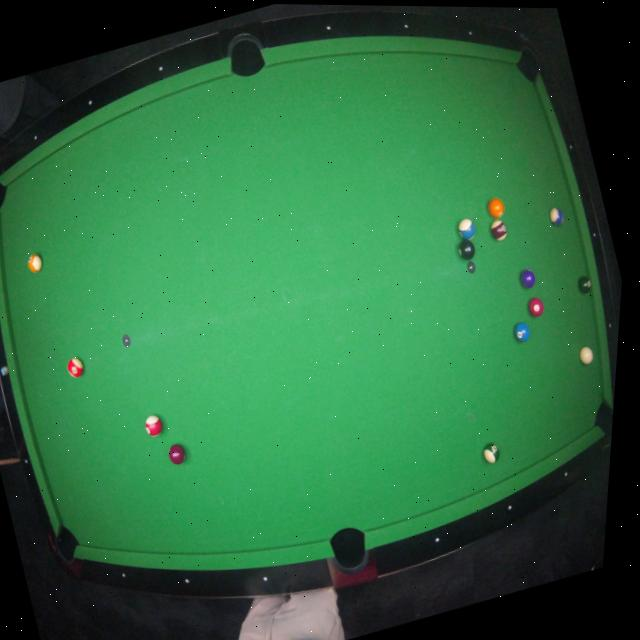cue ball: (574, 343, 597, 370)
other: (60, 353, 91, 385), (138, 409, 169, 441), (163, 437, 193, 470), (477, 437, 507, 468), (20, 249, 47, 276), (454, 236, 480, 264), (484, 195, 508, 221), (455, 216, 479, 242), (487, 218, 510, 243), (546, 205, 567, 230), (517, 266, 538, 290), (512, 320, 533, 344), (526, 296, 546, 319), (575, 273, 595, 295)
